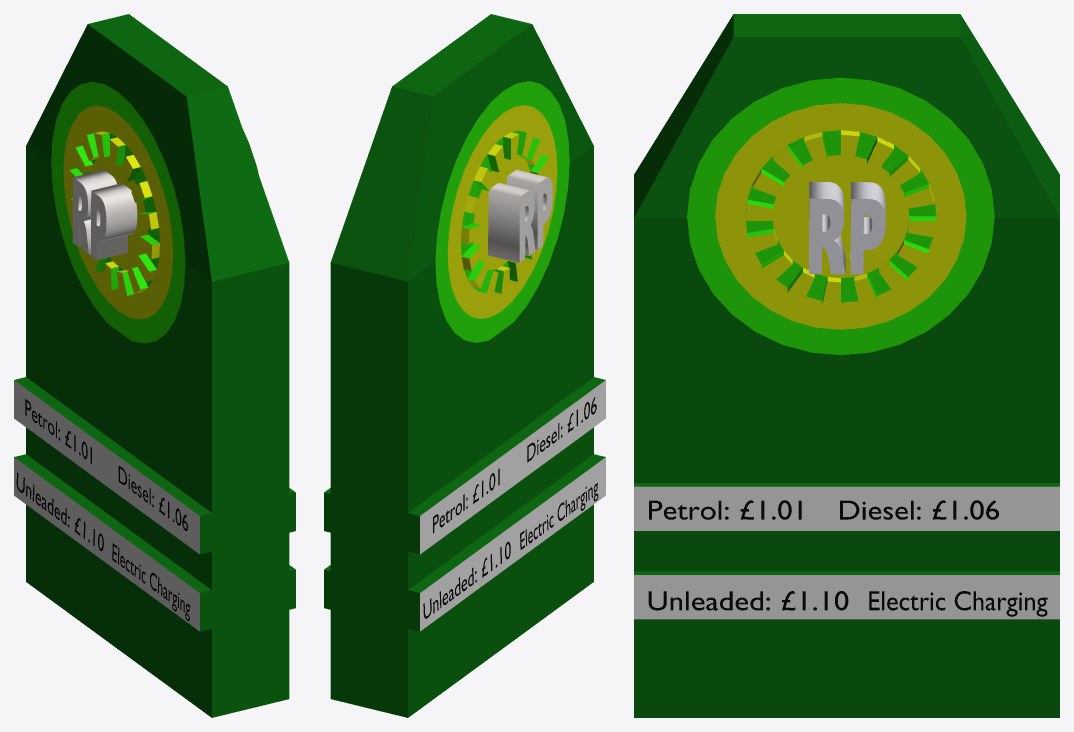
The model's file is rp_pedestal.fbx.
3 views of the same model, side by side, from view 1: azimuth 30°, elevation 25°; view 2: azimuth 150°, elevation 25°; view 3: azimuth 270°, elevation 25° (orthographic). The views are drawn at different scales.
Visible parts, largest first — view 1: Cube, Circle.002, Text.002, Text.005, Text.006, Text.004, Text; view 2: Cube, Circle.002, Text.002, Text.006, Text.005, Text.004, Text; view 3: Cube, Circle, Text.003, Text.008, Text.007, Text.009, Text.010.
Part boxes in pixels (x1,y1,x2,y2): Cube: [14, 14, 295, 717]; Circle.002: [51, 81, 185, 343]; Text.002: [72, 169, 137, 260]; Text.005: [16, 472, 103, 551]; Text.006: [112, 543, 190, 620]; Text.004: [118, 465, 187, 530]; Text: [25, 399, 91, 463]; Cube: [324, 14, 605, 717]; Circle.002: [435, 81, 569, 342]; Text.002: [488, 170, 552, 262]; Text.006: [520, 483, 598, 549]; Text.005: [423, 541, 510, 618]; Text.004: [527, 397, 596, 462]; Text: [433, 468, 499, 533]; Cube: [634, 14, 1059, 717]; Circle: [687, 77, 994, 355]; Text.003: [809, 181, 885, 274]; Text.008: [648, 591, 848, 610]; Text.007: [869, 591, 1047, 616]; Text.009: [840, 500, 998, 519]; Text.010: [649, 500, 801, 519].
Size of the model in its own units: 36.67 by 144 by 83.05.
